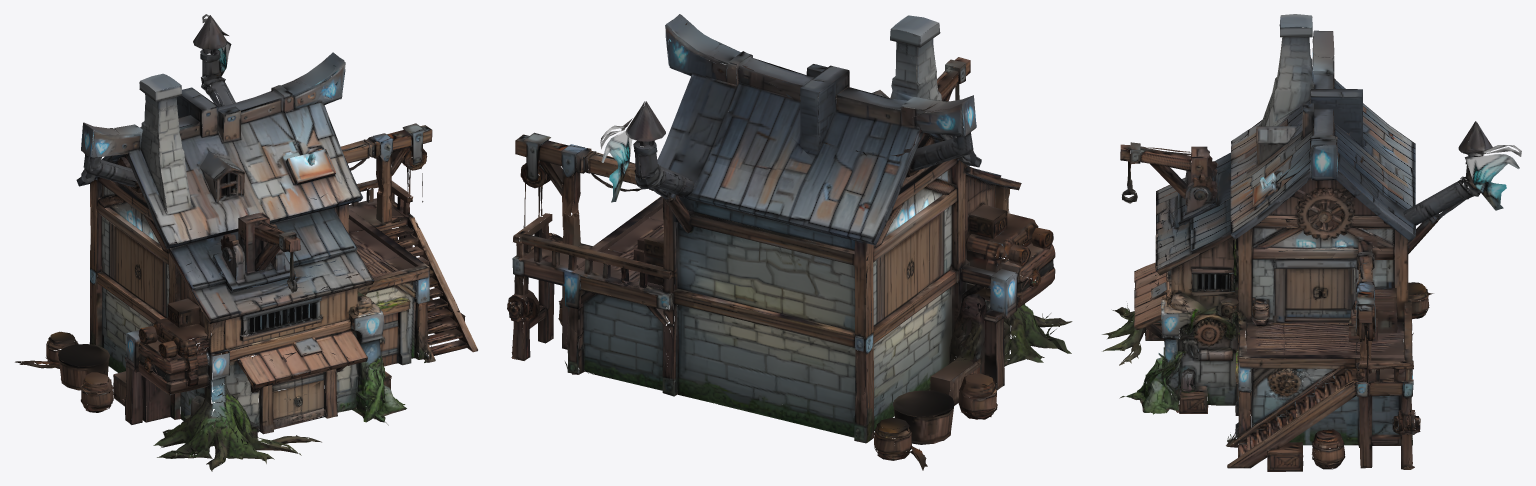
The model's file is Warehouse.fbx.
The picture shows the model from 3 angles, left to right: view 1: azimuth 30°, elevation 25°; view 2: azimuth 150°, elevation 25°; view 3: azimuth 270°, elevation 25°; orthographic projection. The views are drawn at different scales.
Parts seen in each view (by area): view 1: node_0; view 2: node_0; view 3: node_0.
Part boxes in pixels (x1,y1,x2,y2): node_0: (15,14,477,471); node_0: (507,14,1072,470); node_0: (1102,14,1521,471).
Size of the model in its own units: 126 by 100 by 122.
1 material, 1 textured.
